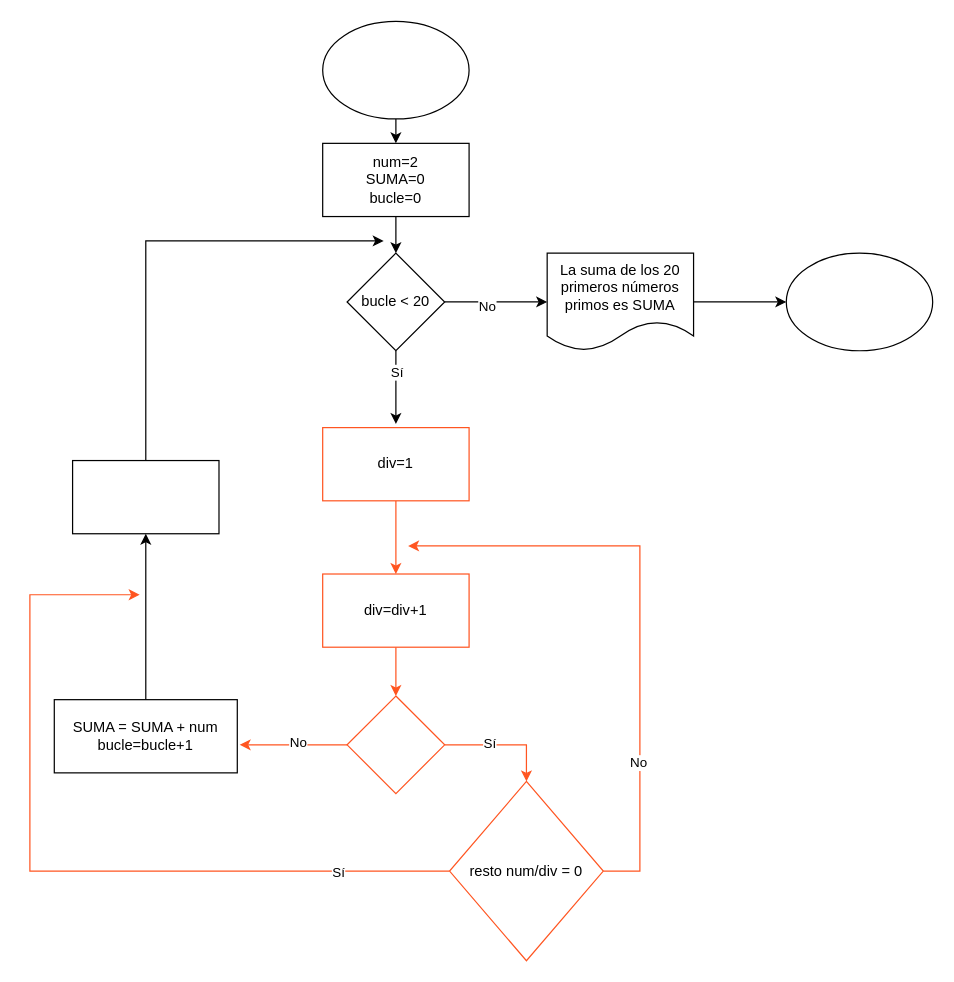
Some shapes in this 954 by 982 pixel diagram are drawn without their labels. The centre of each missing label's shape, as x and y in pixels:
"div < num" goes at pixel 395 744.
"FIN" goes at pixel 859 301.
"INICIO" goes at pixel 395 69.
"num=num+1" goes at pixel 145 496.
